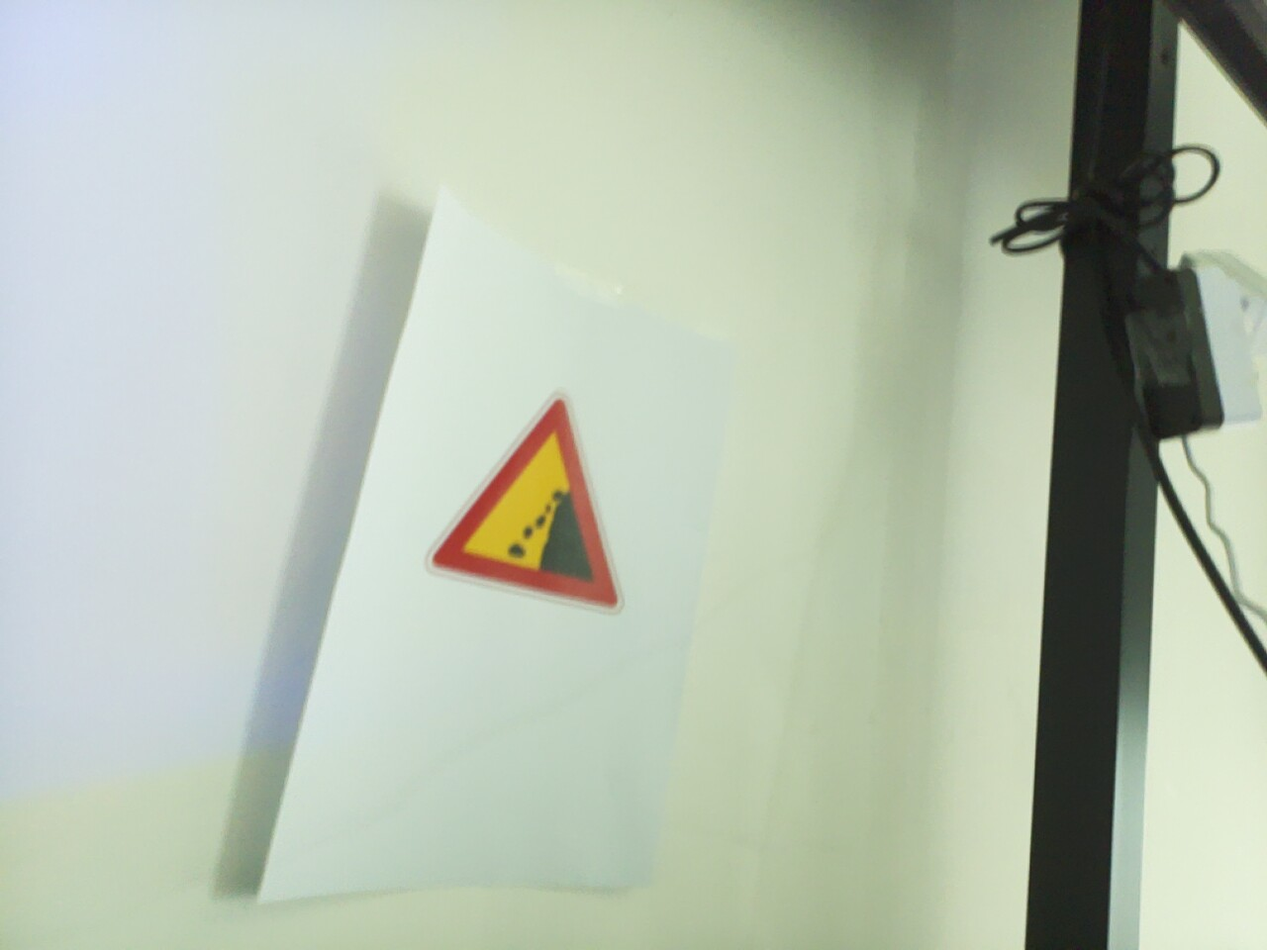falling_rocks: (1140, 254, 1267, 749)
